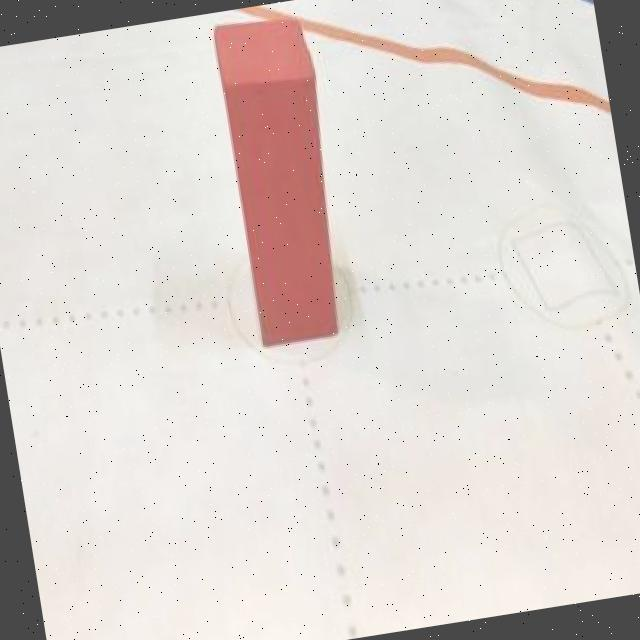redbox: (208, 7, 358, 349)
